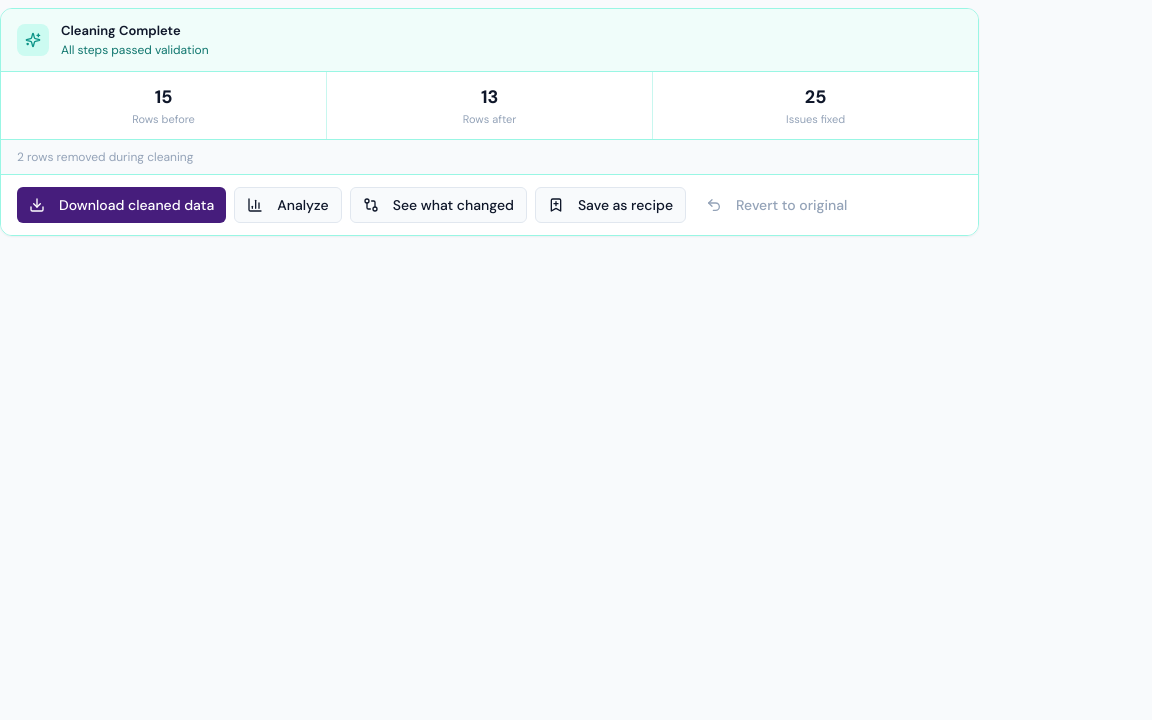
it: CleaningResultsCard — trust UX actions › blocks saving with an empty name
The width and height of the screenshot is (1152, 720).
Click the button "Save as recipe". click: (610, 205)
box: left=535, top=187, right=686, bottom=223
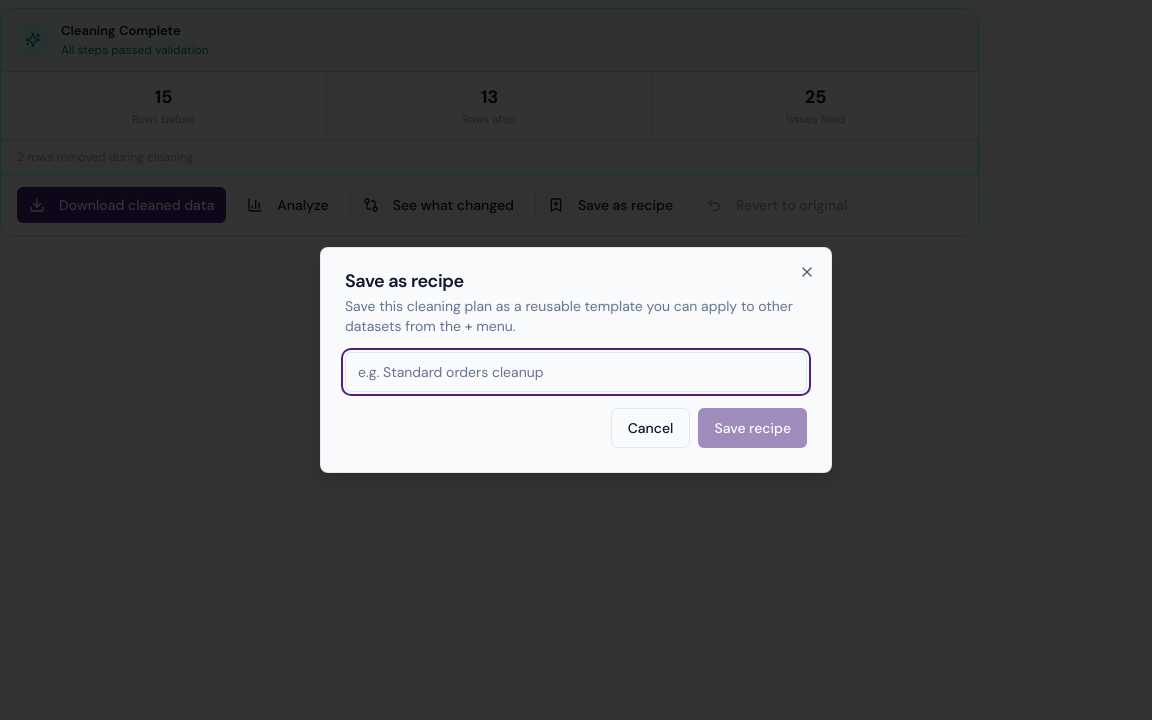
Expected: the button "Save recipe" is disabled, left=698, top=408, right=807, bottom=448
